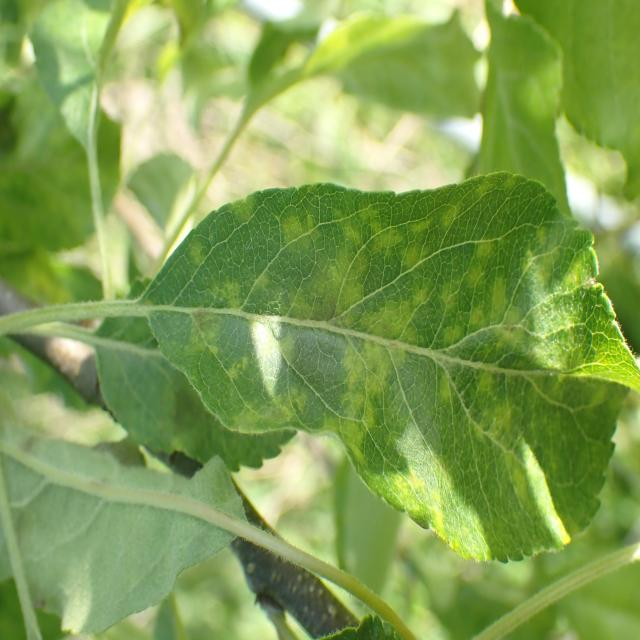scab: (174, 207, 592, 454)
